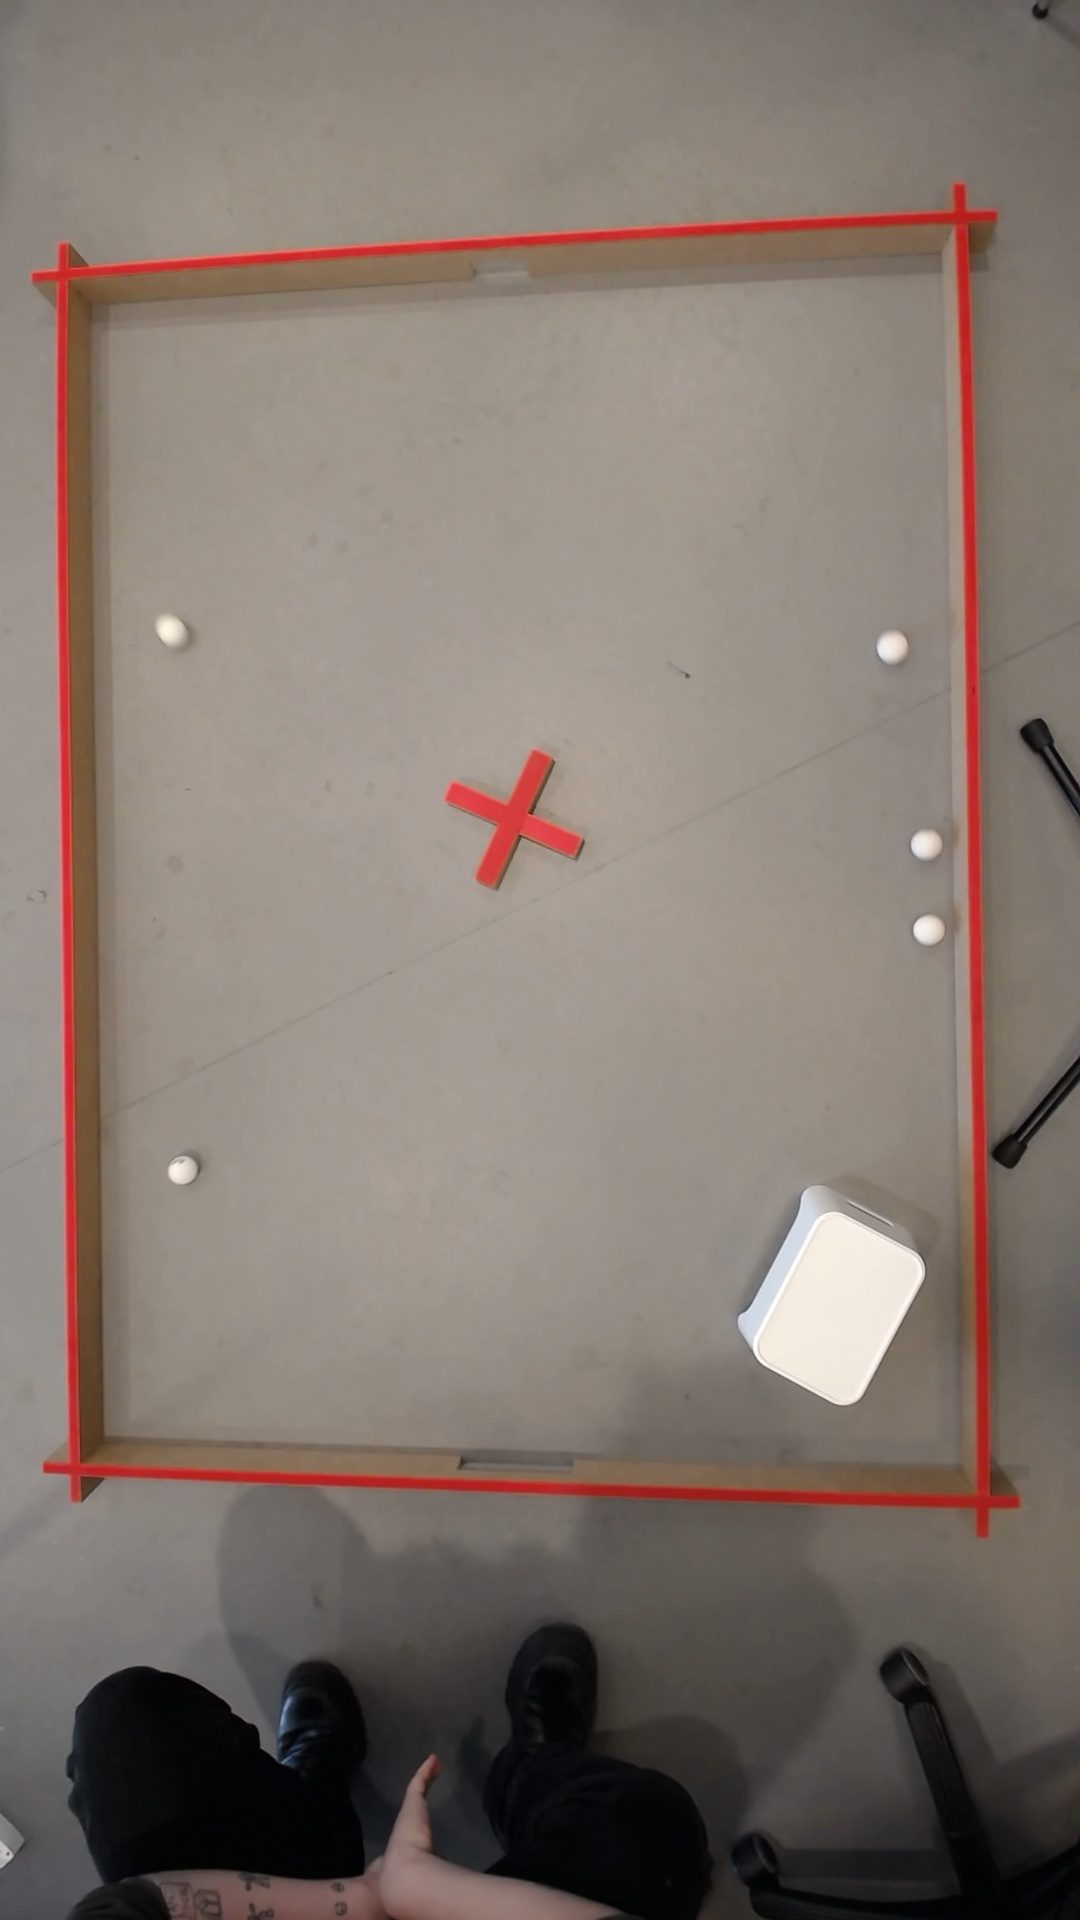balls: (723, 1188, 934, 1412), (907, 909, 947, 948), (905, 824, 942, 861), (873, 628, 907, 663), (156, 616, 181, 642)
car: (164, 1155, 196, 1187)
